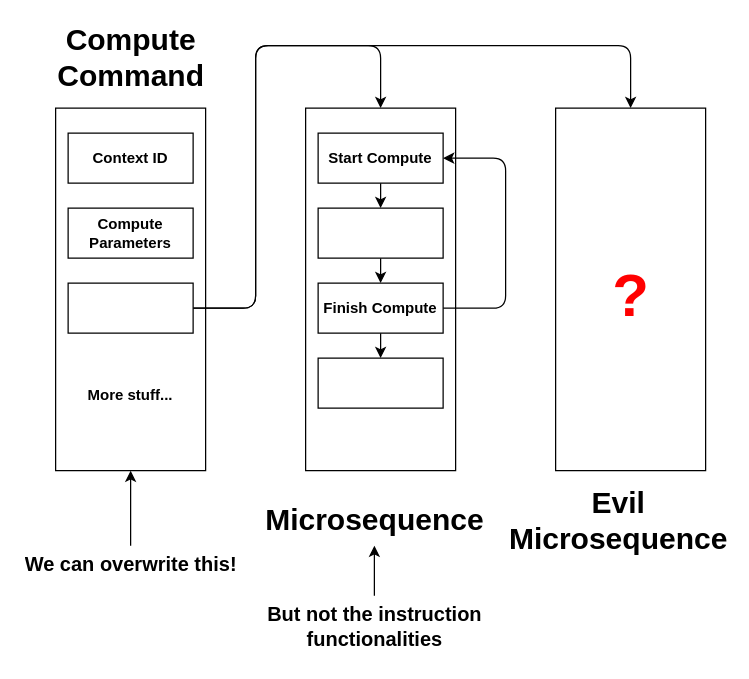
This 749x679 diagram has some shape labels left out. The shapes that lost their labels are listed below. From the top down, each one's box as (x1, y1, x2, y2) in pixels, then its label:
(317, 207, 443, 258): Wait For Idle
(67, 282, 193, 333): Pointer to Microsequence
(317, 357, 443, 408): Retire
